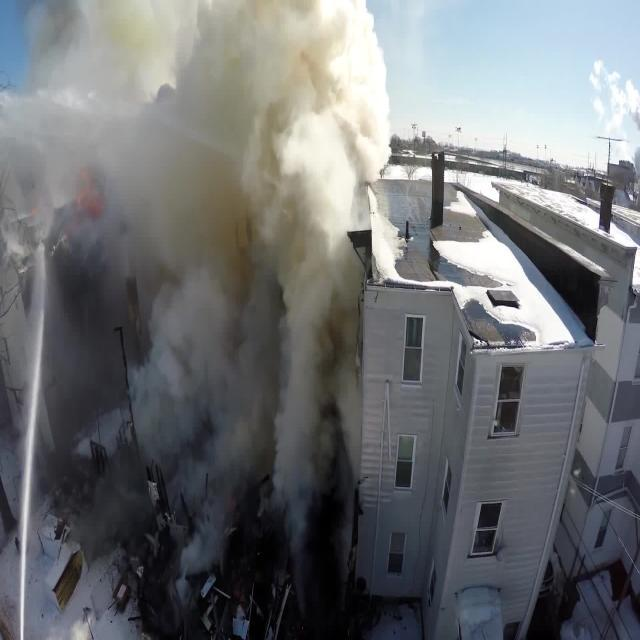Smoke: (103, 0, 361, 535)
